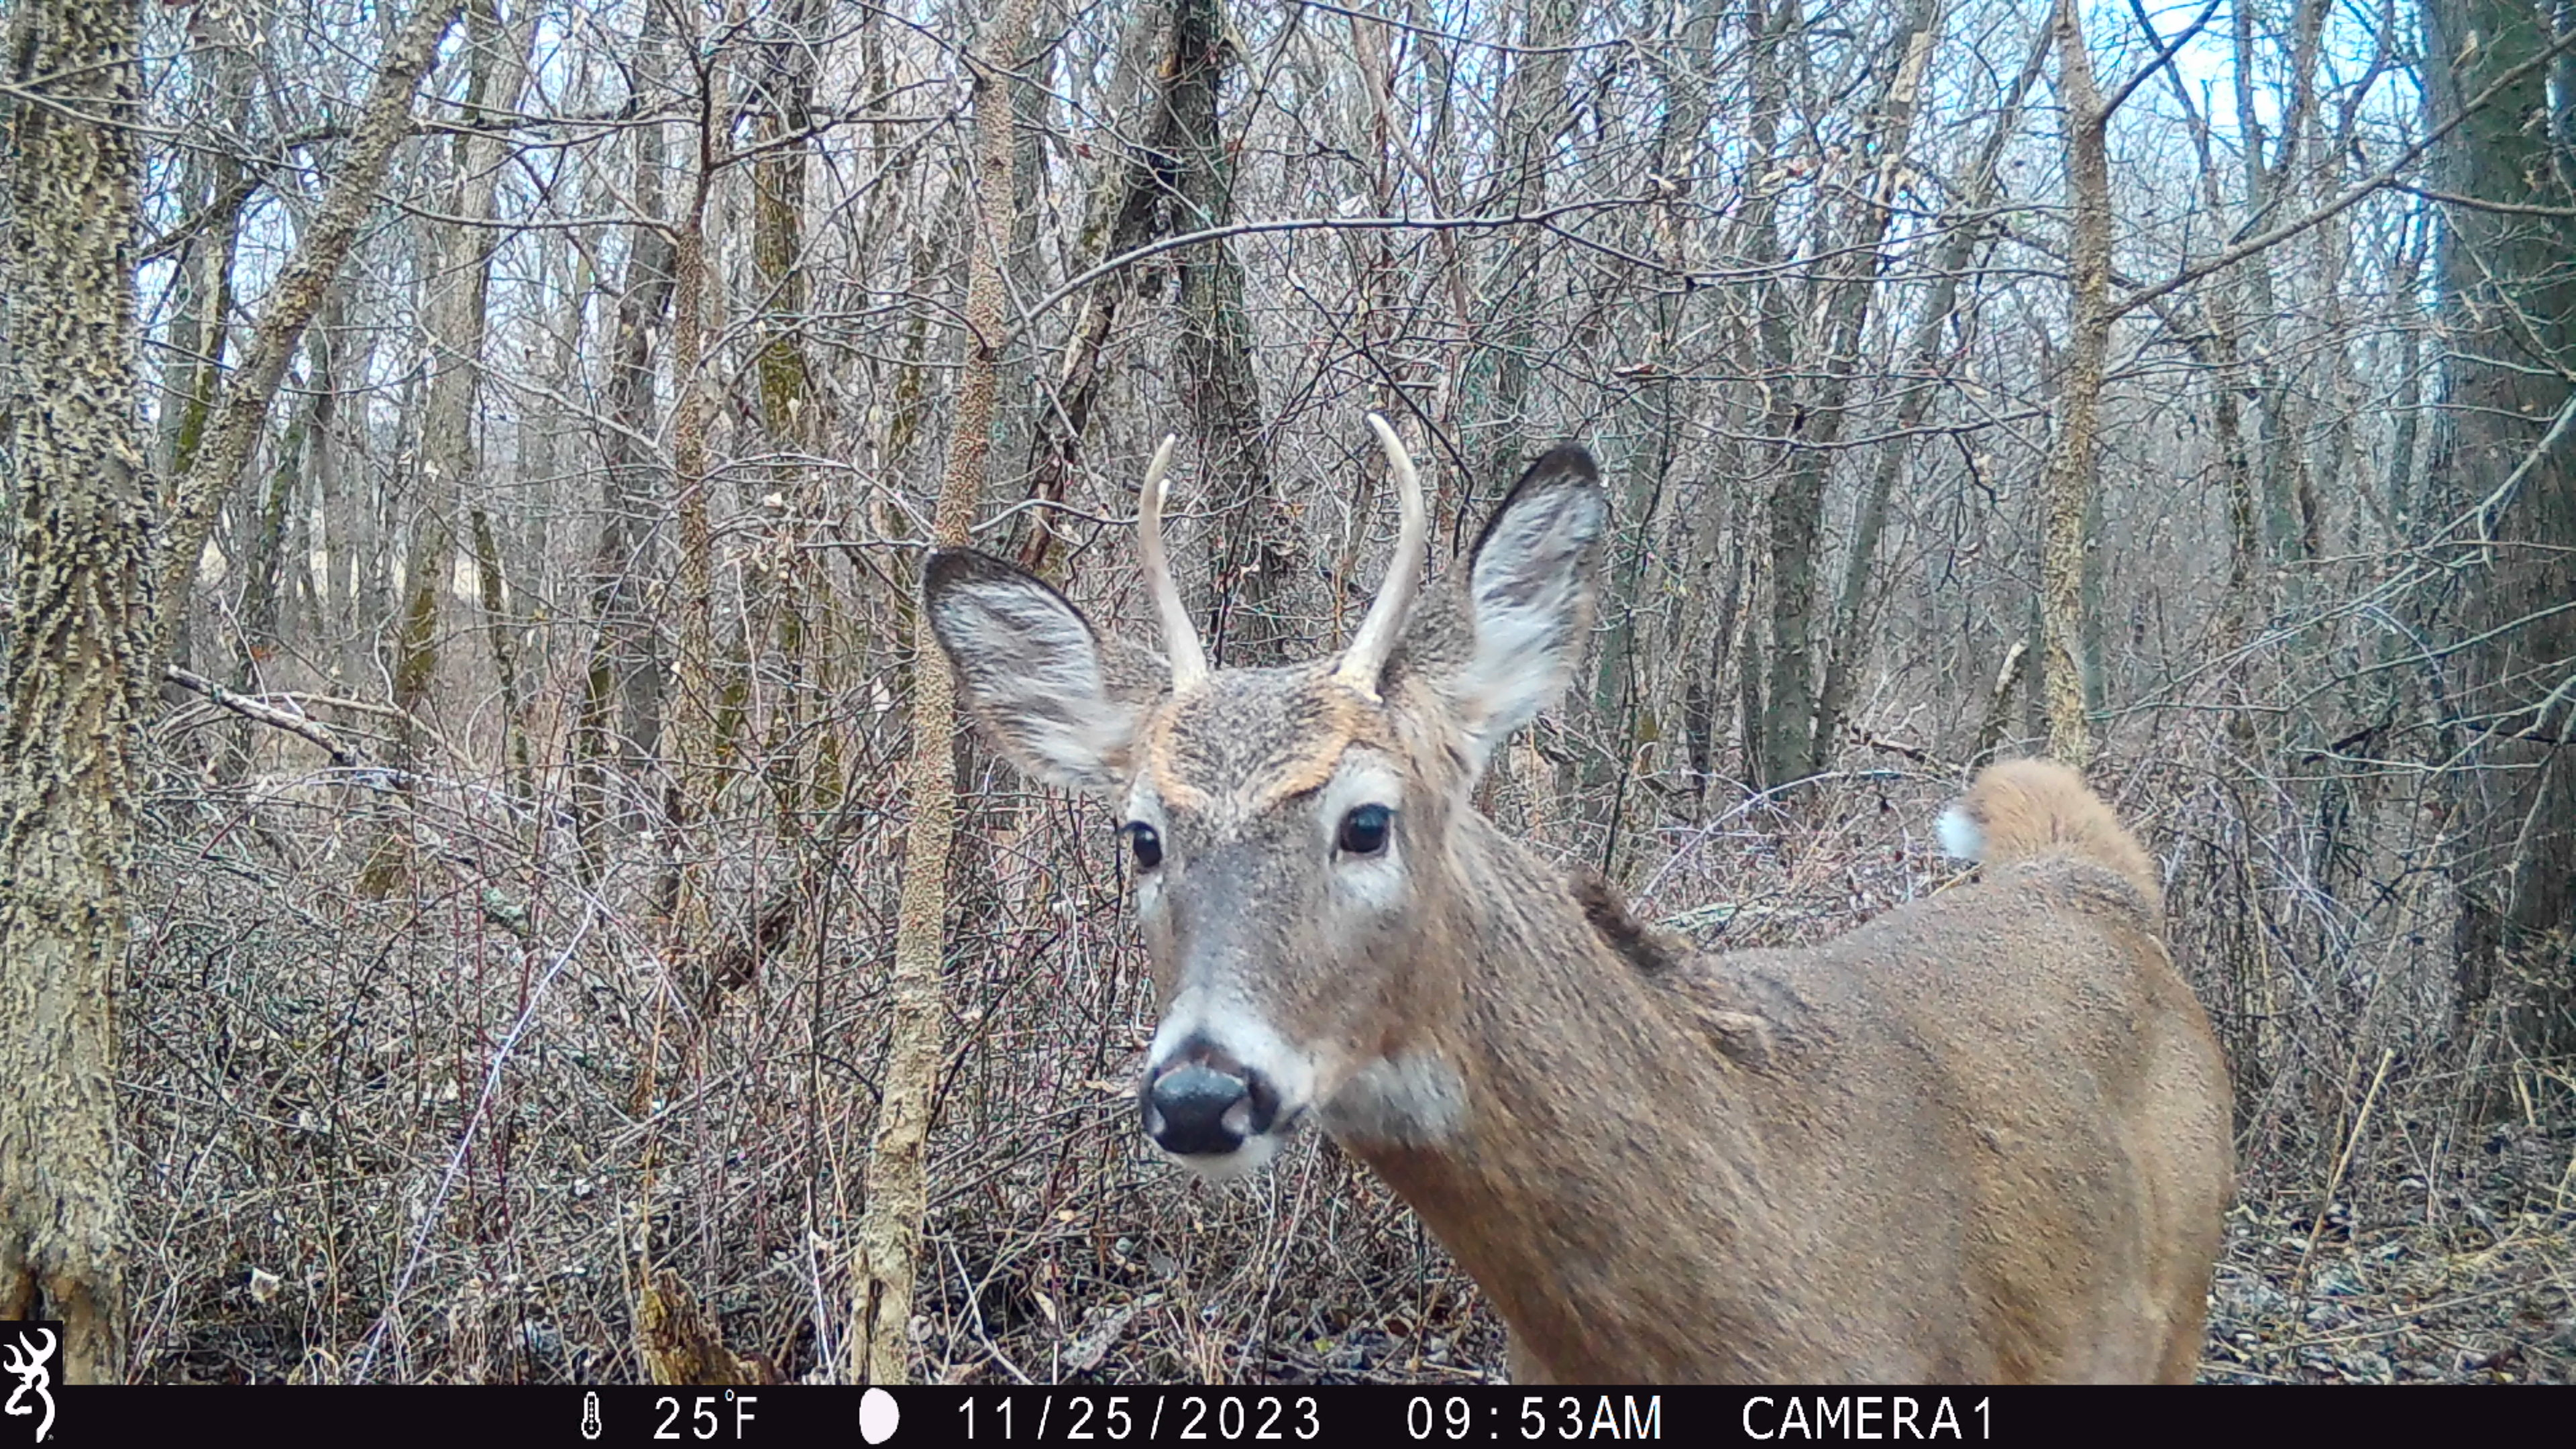DeerBuck: (915, 400, 2240, 1385)
DeerBuckHead: (918, 402, 1613, 1183)
